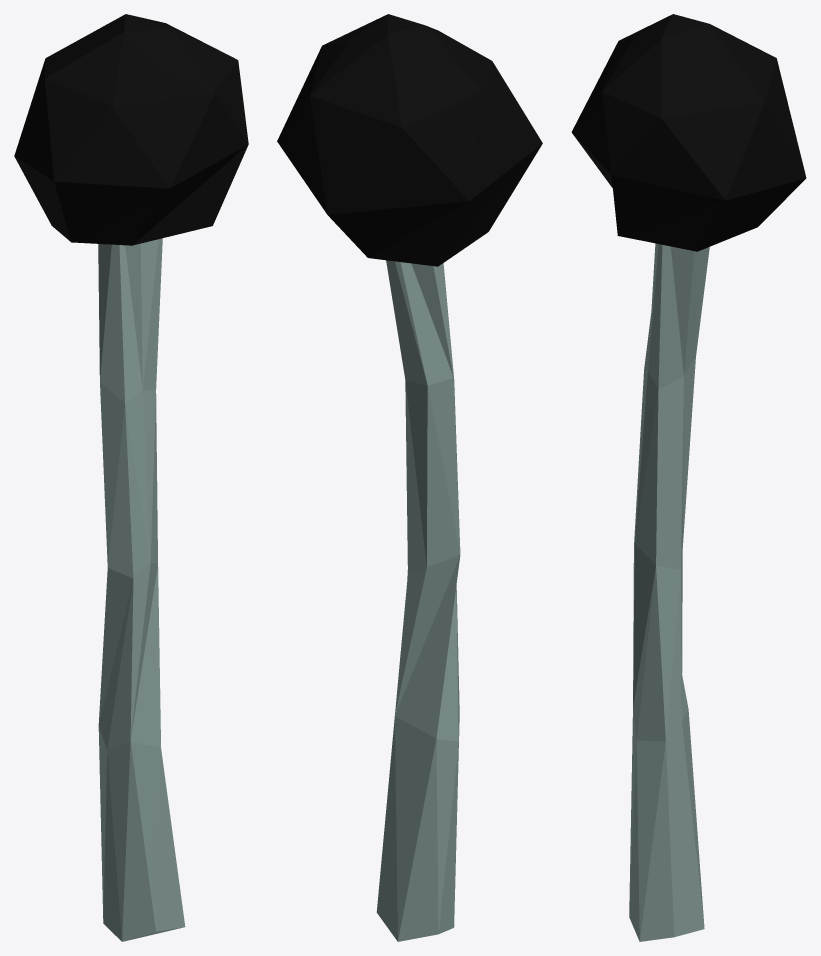
Rendered from SENE_NEEDAMA-005.FBX.
3 views of the same model, side by side, from view 1: azimuth 30°, elevation 25°; view 2: azimuth 150°, elevation 25°; view 3: azimuth 270°, elevation 25° (orthographic).
Parts seen in each view (by area): view 1: SENE_NEEDAMA-005; view 2: SENE_NEEDAMA-005; view 3: SENE_NEEDAMA-005.
Part boxes in pixels (x1,y1,x2,y2): SENE_NEEDAMA-005: [14, 14, 248, 941]; SENE_NEEDAMA-005: [277, 14, 542, 941]; SENE_NEEDAMA-005: [571, 14, 806, 941].
Size of the model in its own units: 213 by 854 by 200.
